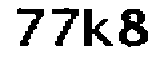7: (12, 6, 47, 47), (50, 6, 81, 52)
8: (114, 6, 151, 52)
k: (82, 6, 114, 51)
